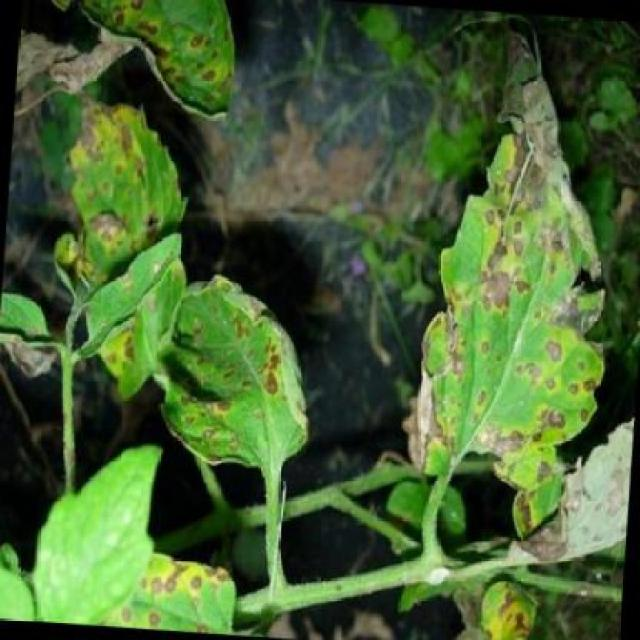Septoria leaf spot: (390, 69, 633, 522), (28, 51, 184, 404), (150, 267, 332, 495), (66, 0, 269, 158)
